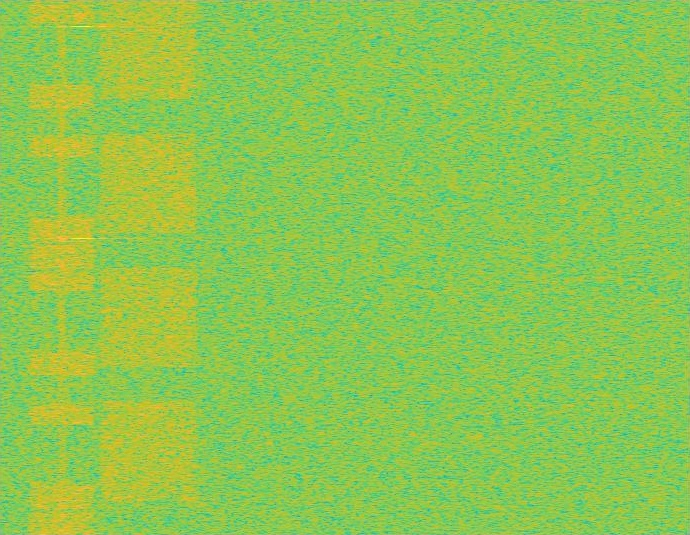5G: (97, 0, 200, 534)
DSSS: (57, 0, 67, 534)
LTE: (28, 0, 97, 534)
Radar: (76, 0, 89, 534)
